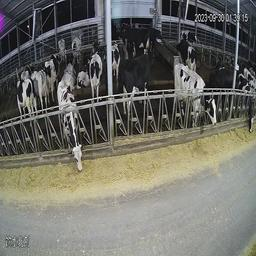cow: (171, 60, 217, 130), (121, 49, 155, 123), (59, 87, 84, 173), (12, 76, 39, 129), (204, 66, 238, 106), (238, 69, 254, 137), (88, 38, 104, 105), (41, 52, 60, 106), (120, 26, 151, 58), (57, 59, 76, 111), (104, 39, 121, 92), (30, 69, 48, 118), (175, 37, 197, 75), (145, 26, 163, 55), (69, 35, 84, 66), (77, 58, 91, 91), (57, 37, 69, 66)
